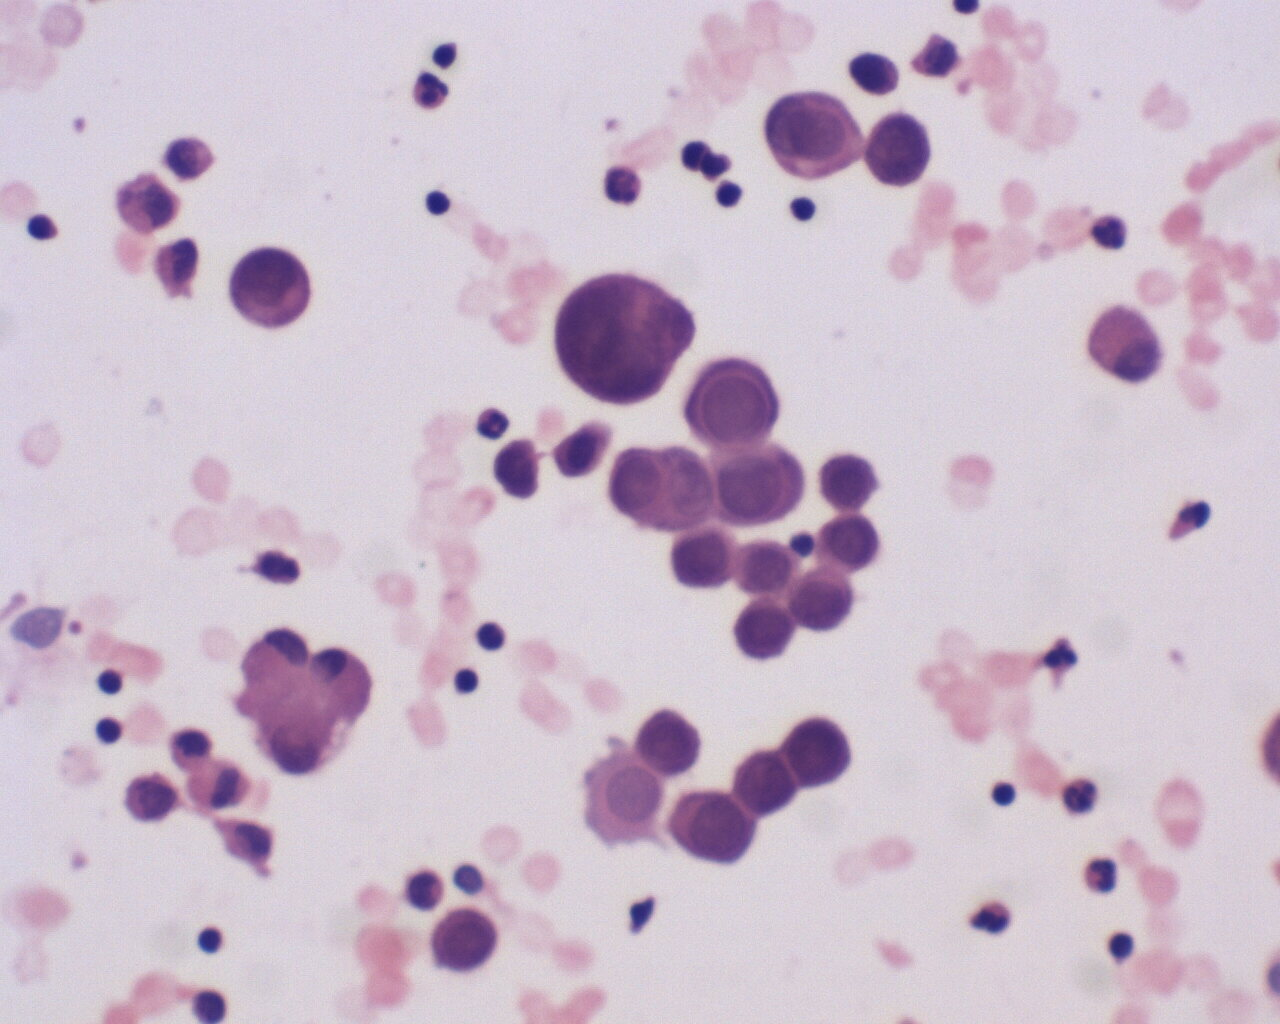ab: (554, 265, 699, 410), (761, 87, 860, 184), (683, 355, 781, 449), (228, 242, 320, 333), (709, 439, 802, 528), (671, 785, 761, 868), (861, 110, 939, 192), (783, 709, 855, 796), (637, 708, 711, 784), (428, 906, 505, 978), (813, 445, 888, 516), (791, 562, 859, 633), (735, 748, 798, 823), (729, 594, 797, 664), (670, 525, 737, 594)
lymph: (784, 188, 825, 229), (447, 662, 488, 704), (193, 918, 230, 958), (712, 178, 749, 215), (94, 664, 130, 702), (420, 184, 456, 222)
meso: (1081, 299, 1168, 387)
neutro: (1078, 852, 1128, 902), (406, 67, 455, 114), (1058, 772, 1104, 815), (1091, 212, 1133, 253), (470, 408, 510, 442)
